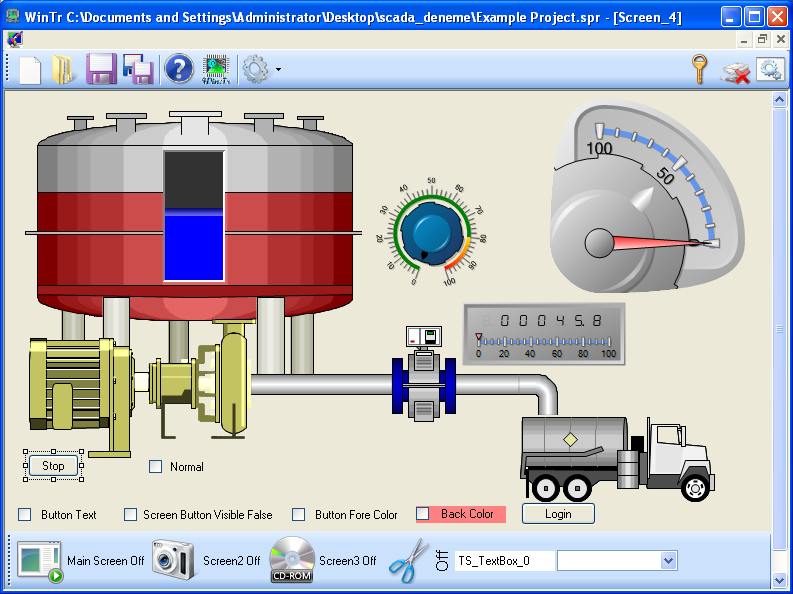bargraph: (465, 301, 628, 365), (154, 145, 228, 282)
button: (12, 448, 93, 488), (517, 502, 596, 522)
pipe: (456, 367, 557, 399), (251, 369, 388, 392)
pump_isa: (17, 335, 252, 459)
tank: (17, 100, 361, 331)
